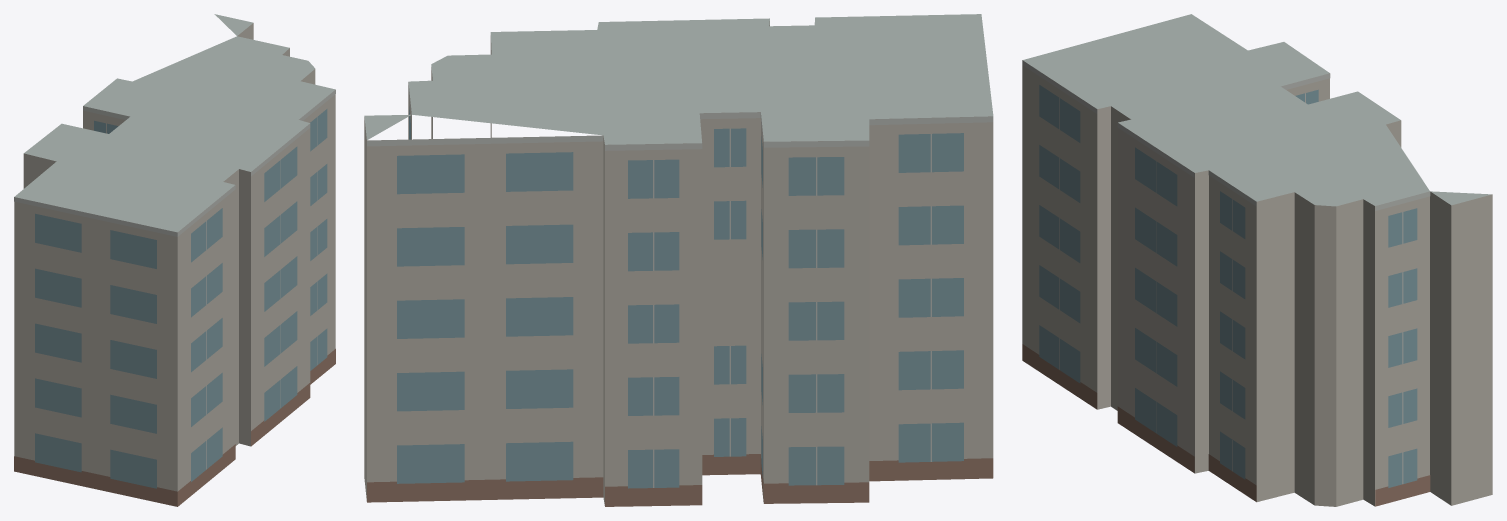
The model's file is survey-upis-32673318.glb.
3 views of the same model, side by side, from view 1: azimuth 30°, elevation 25°; view 2: azimuth 150°, elevation 25°; view 3: azimuth 270°, elevation 25° (orthographic). The views are drawn at different scales.
Visible parts, largest first — view 1: survey-upis-32673318.tmp; view 2: survey-upis-32673318.tmp; view 3: survey-upis-32673318.tmp.
Boxes of the visible parts, bbox=[...] form: survey-upis-32673318.tmp: bbox=[14, 14, 335, 506]; survey-upis-32673318.tmp: bbox=[364, 14, 993, 506]; survey-upis-32673318.tmp: bbox=[1022, 14, 1492, 506].
Bounding box in the file's own units: 20.19 × 14.7 × 20.85.
